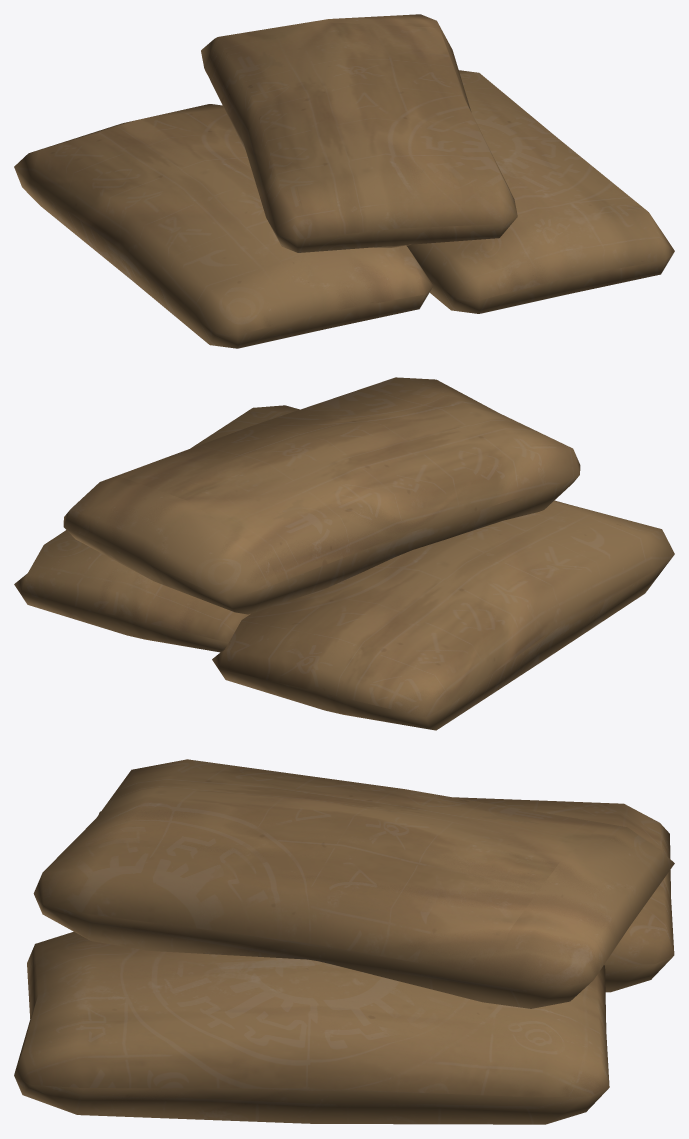
File: prop_Sack_B.fbx
The picture shows the model from 3 angles, top to bottom: view 1: azimuth 30°, elevation 25°; view 2: azimuth 150°, elevation 25°; view 3: azimuth 270°, elevation 25°; orthographic projection. The views are drawn at different scales.
Parts seen in each view (by area): view 1: prop_Sack_B; view 2: prop_Sack_B; view 3: prop_Sack_B.
Part boxes in pixels (bbox=[...]): prop_Sack_B: bbox=[14, 14, 674, 348]; prop_Sack_B: bbox=[14, 377, 674, 730]; prop_Sack_B: bbox=[14, 759, 674, 1124].
Size of the model in its own units: 136 by 50.2 by 137.
